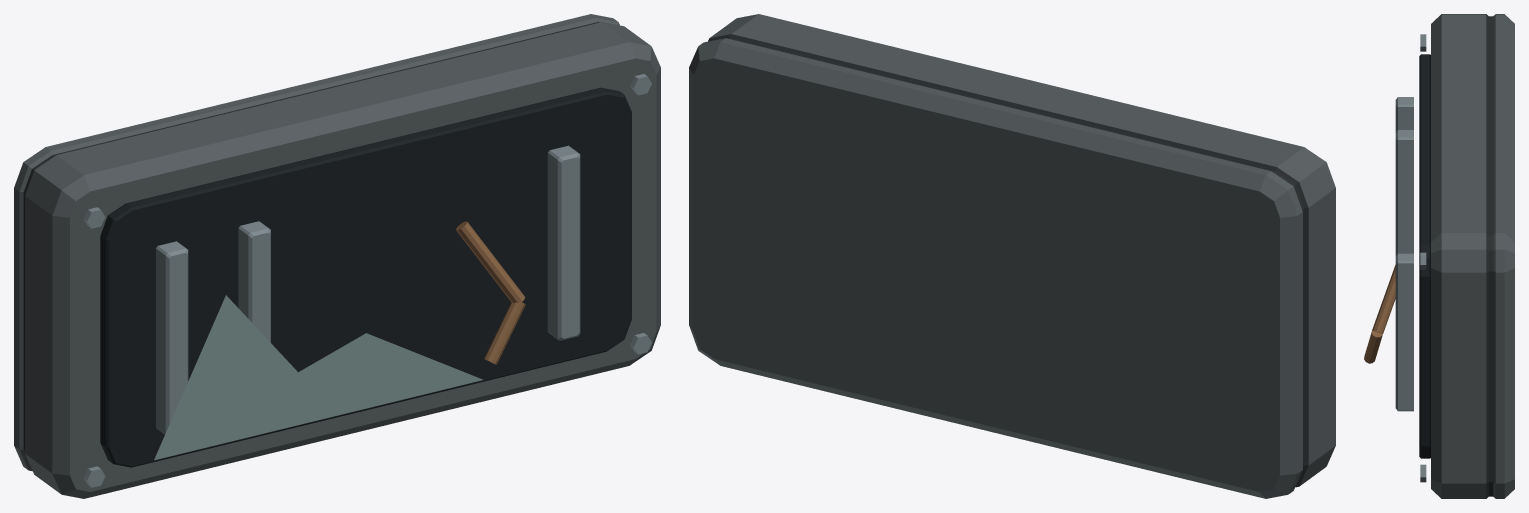
The model's file is F-02_broken_lamp.glb.
3 renders of one model, left to right at view 1: azimuth 30°, elevation 25°; view 2: azimuth 150°, elevation 25°; view 3: azimuth 270°, elevation 25°, orthographic. The views are drawn at different scales.
Parts seen in each view (by area): view 1: F-02_broken_lamp; view 2: F-02_broken_lamp; view 3: F-02_broken_lamp.
Boxes of the visible parts, x1,y1,x2,y2 form: F-02_broken_lamp: (14, 14, 660, 498); F-02_broken_lamp: (689, 14, 1335, 498); F-02_broken_lamp: (1364, 14, 1514, 498).
Bounding box in the file's own units: 0.59 × 0.3 × 0.1548.
